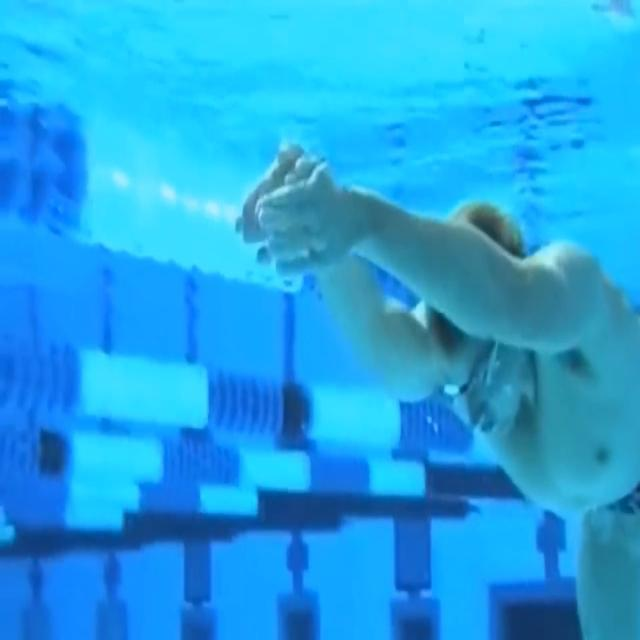Swimming: (232, 140, 640, 639)
